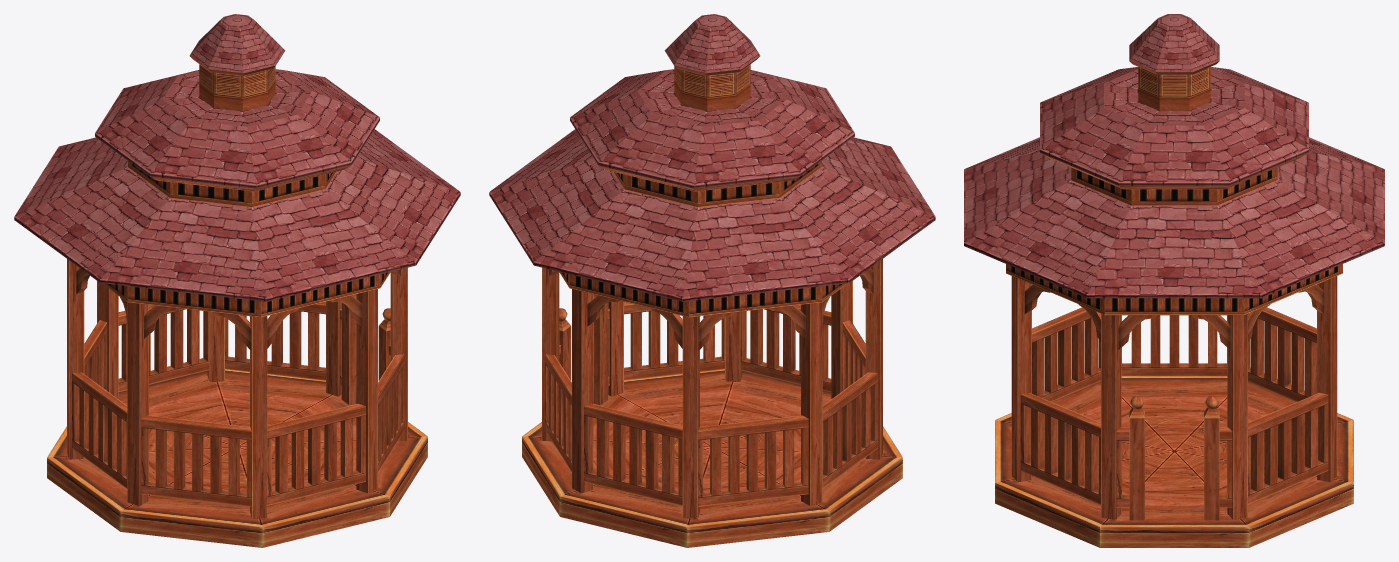
File: gazebo.dae
The picture shows the model from 3 angles, left to right: view 1: azimuth 30°, elevation 25°; view 2: azimuth 150°, elevation 25°; view 3: azimuth 270°, elevation 25°; orthographic projection.
Visible parts, largest first — view 1: Gazebo; view 2: Gazebo; view 3: Gazebo.
Boxes of the visible parts, x1,y1,x2,y2 form: Gazebo: (14, 14, 460, 547); Gazebo: (489, 14, 935, 547); Gazebo: (964, 14, 1384, 547).
Size of the model in its own units: 107 by 107 by 127.
